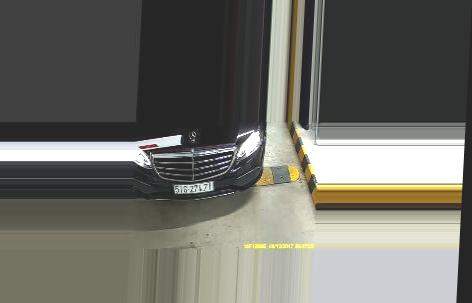License_Plate: (172, 180, 216, 195)
